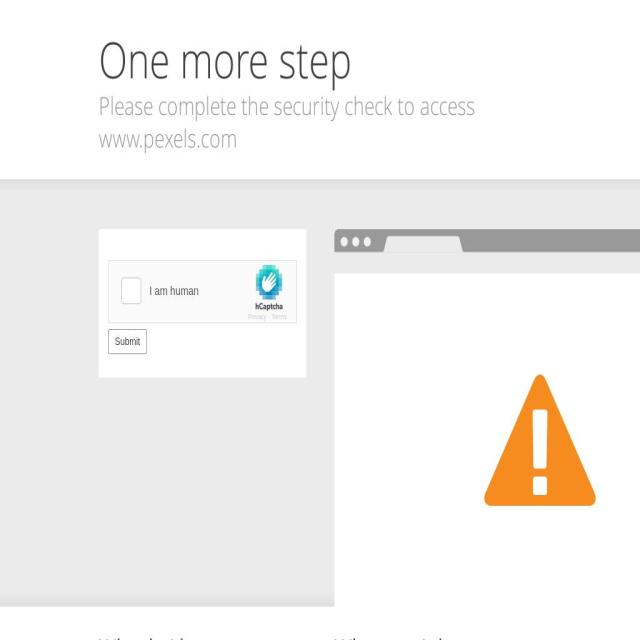field: (108, 328, 147, 354)
heading: (99, 29, 541, 90), (99, 88, 475, 122), (99, 120, 237, 155), (99, 631, 306, 640), (334, 631, 541, 640)
iframe: (108, 259, 298, 325)
image: (484, 373, 596, 506)
